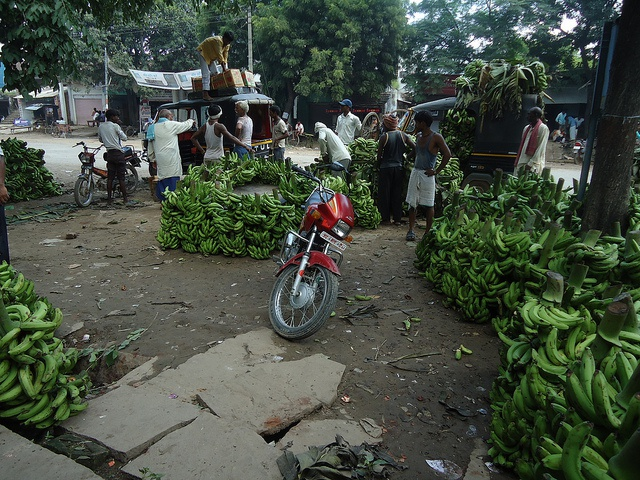non-vehicle: (268, 164, 354, 340), (71, 140, 141, 208), (572, 137, 585, 166)
